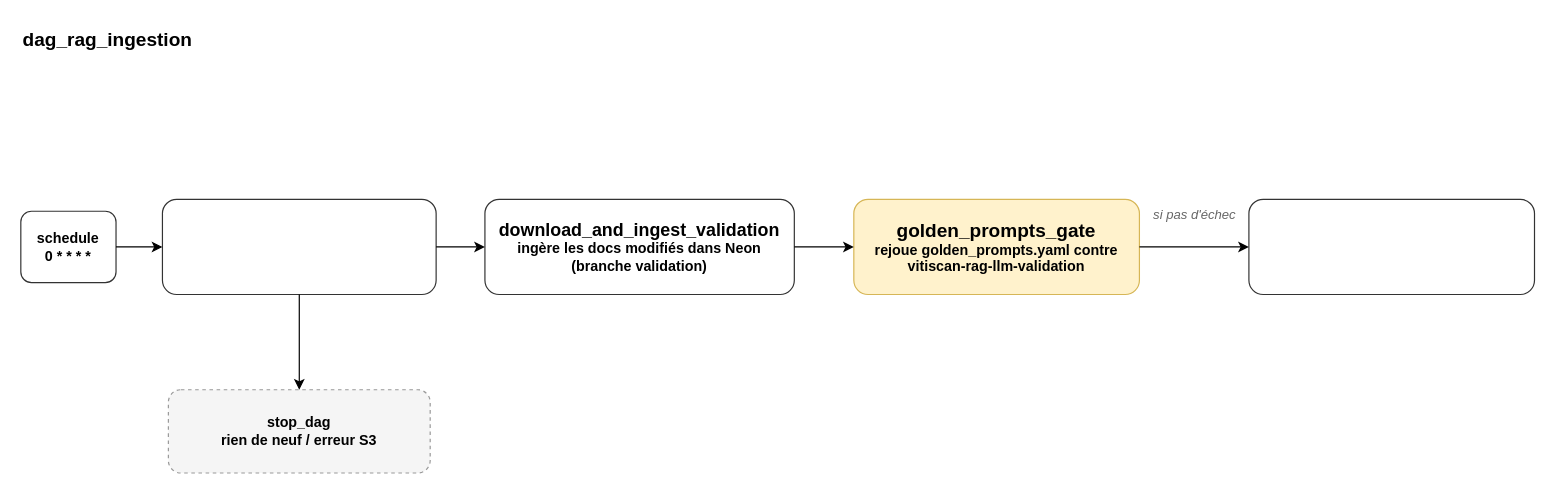
Some shapes in this 1555 by 494 pixel diagram are drawn without their labels. Each missing label, with the centre of its shape:
"branch_check_new_docs compare S3 (hash) au manifest Neon prod" goes at pixel 298 246.
"ingest_prod ingère dans Neon prod + met à jour le manifest" goes at pixel 1391 246.
